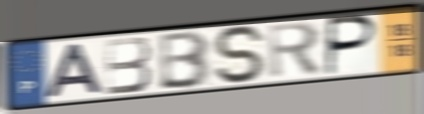A: (41, 41, 107, 100)
B: (157, 28, 213, 91), (103, 34, 154, 97)
P: (323, 13, 380, 78)
R: (266, 19, 324, 81)
S: (211, 24, 269, 86)
